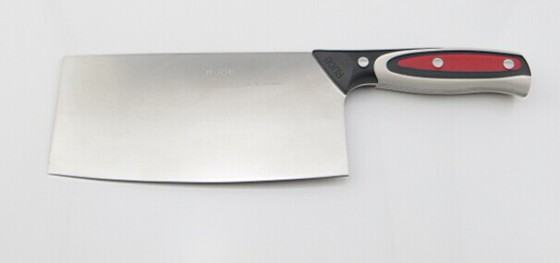knief: (32, 17, 538, 200)
